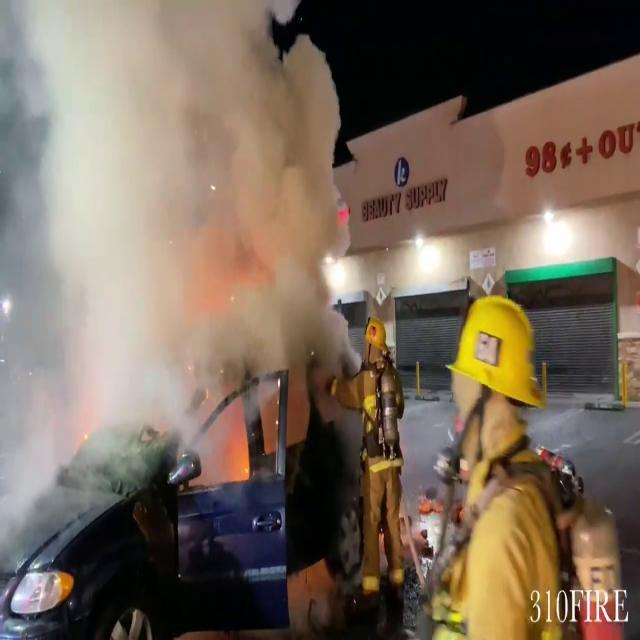Smoke: (0, 1, 365, 540)
